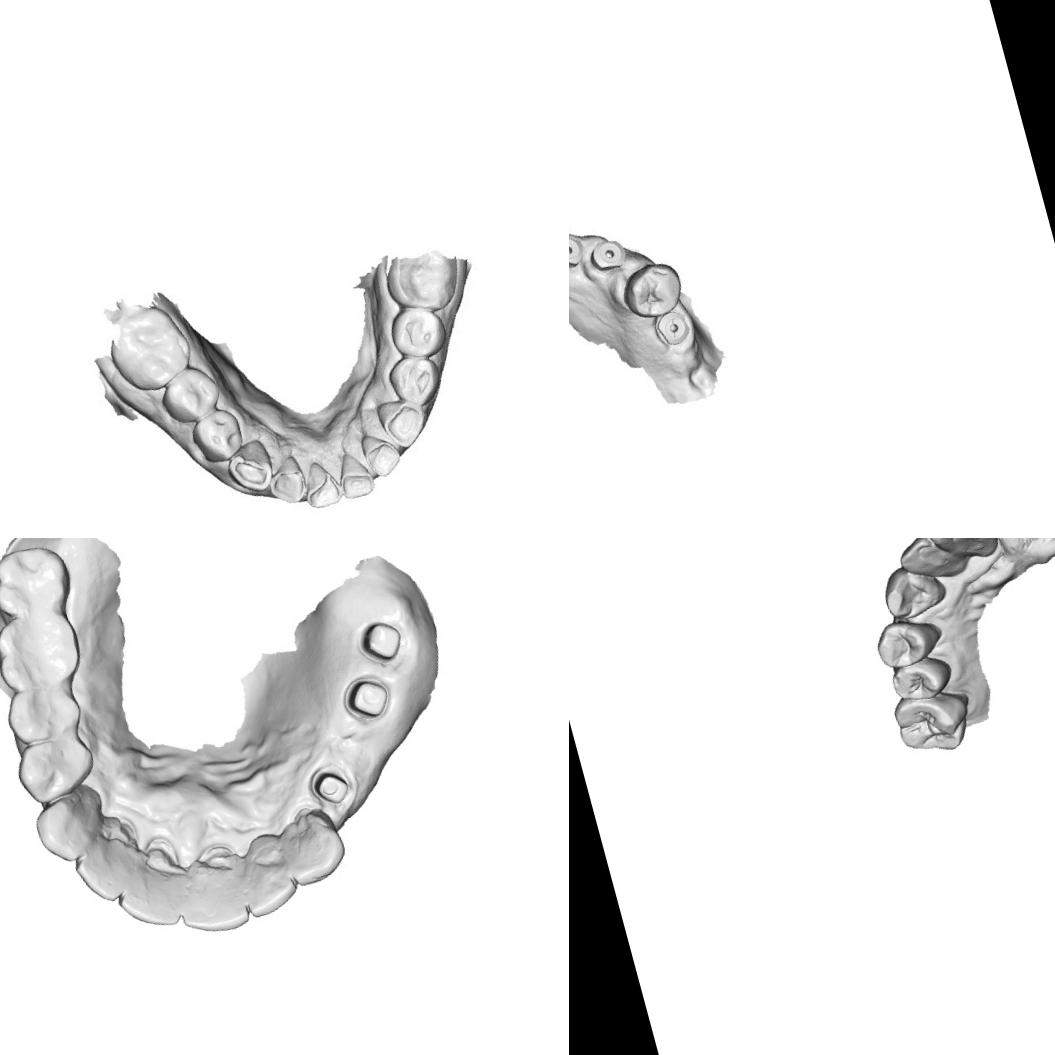abutment: (337, 668, 396, 728), (352, 611, 410, 669), (305, 760, 356, 814)
canine: (27, 782, 115, 871), (277, 813, 352, 890), (876, 556, 950, 623), (219, 437, 280, 502), (372, 391, 430, 454)
implant: (590, 236, 628, 274), (569, 231, 587, 271)
implant_minus: (650, 304, 695, 349)
incisor: (169, 863, 258, 943), (68, 835, 143, 911), (232, 840, 302, 921), (110, 865, 184, 938), (893, 538, 967, 588), (332, 449, 380, 502), (920, 538, 1002, 569), (296, 459, 342, 512), (360, 428, 404, 483), (265, 459, 307, 510)
molar: (102, 300, 200, 401), (0, 601, 88, 699), (887, 678, 981, 762), (380, 242, 466, 322), (0, 538, 78, 625)
premolar: (5, 724, 104, 811), (0, 673, 89, 750), (617, 256, 688, 324), (156, 360, 226, 428), (870, 610, 946, 672), (184, 404, 250, 470), (886, 650, 957, 706), (385, 300, 448, 363), (382, 350, 446, 412)
